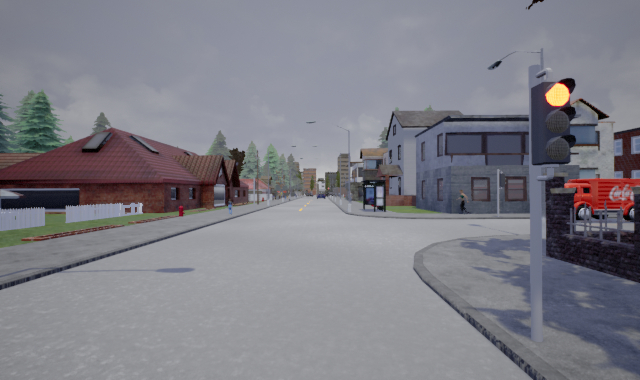pedestrian: (456, 188, 470, 214), (226, 196, 234, 219)
traffic_light: (530, 78, 576, 166)
vehicle: (544, 177, 639, 222)
